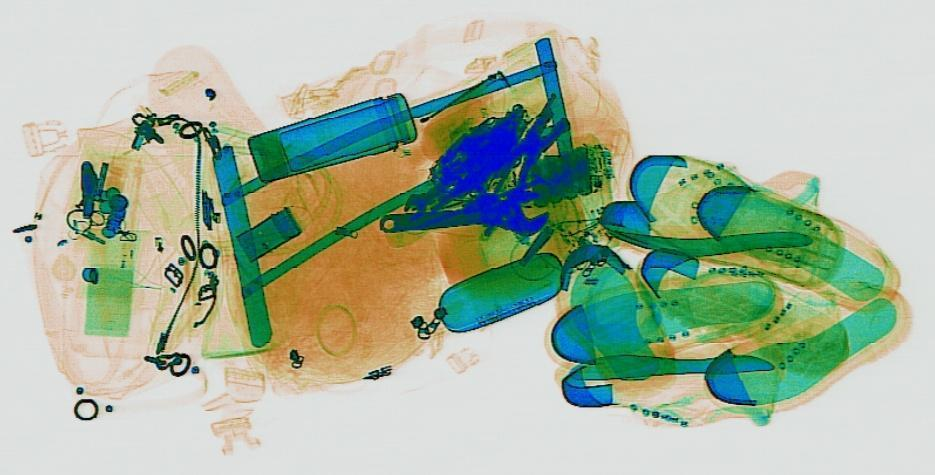Wrench: (371, 188, 553, 246)
